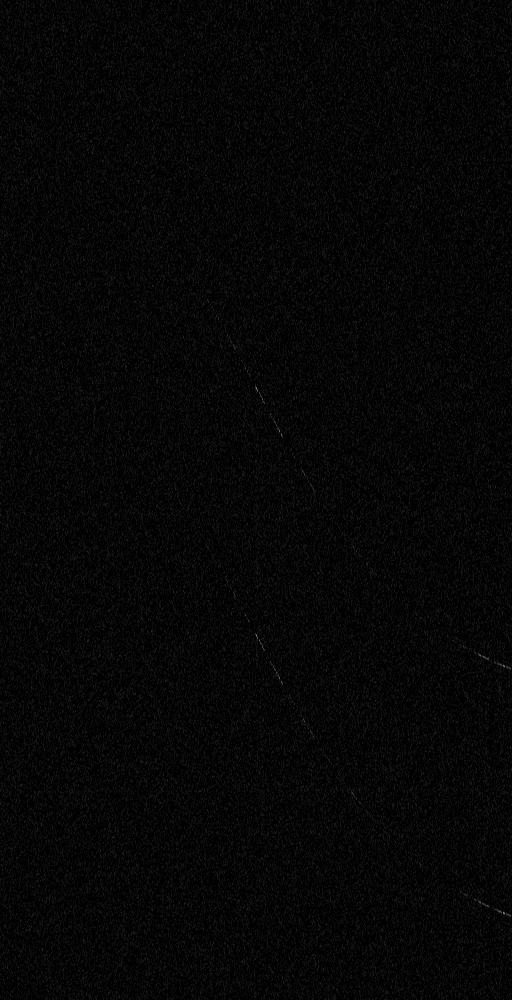signal: (0, 0, 511, 999)
